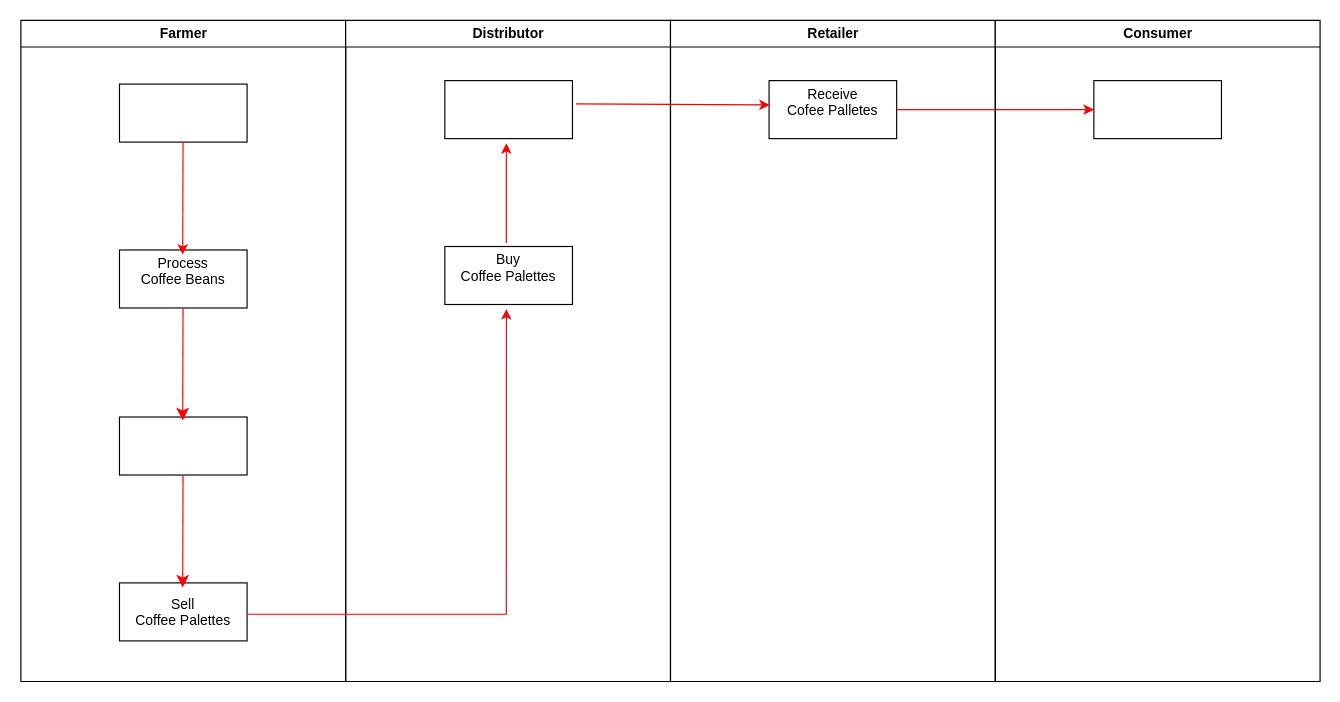
Image size: 1340x702. Some labels were removed from this diagram. Here are the shapes that lost their labels. From the top down, the centre of each, then its label:
At [182,112]: "Harvest Coffee Beans".
At [508,109]: "Ship Coffee Palettes".
At [1157,109]: "Buy Coffee Packages".
At [182,445]: "Pack Coffee Palettes".
